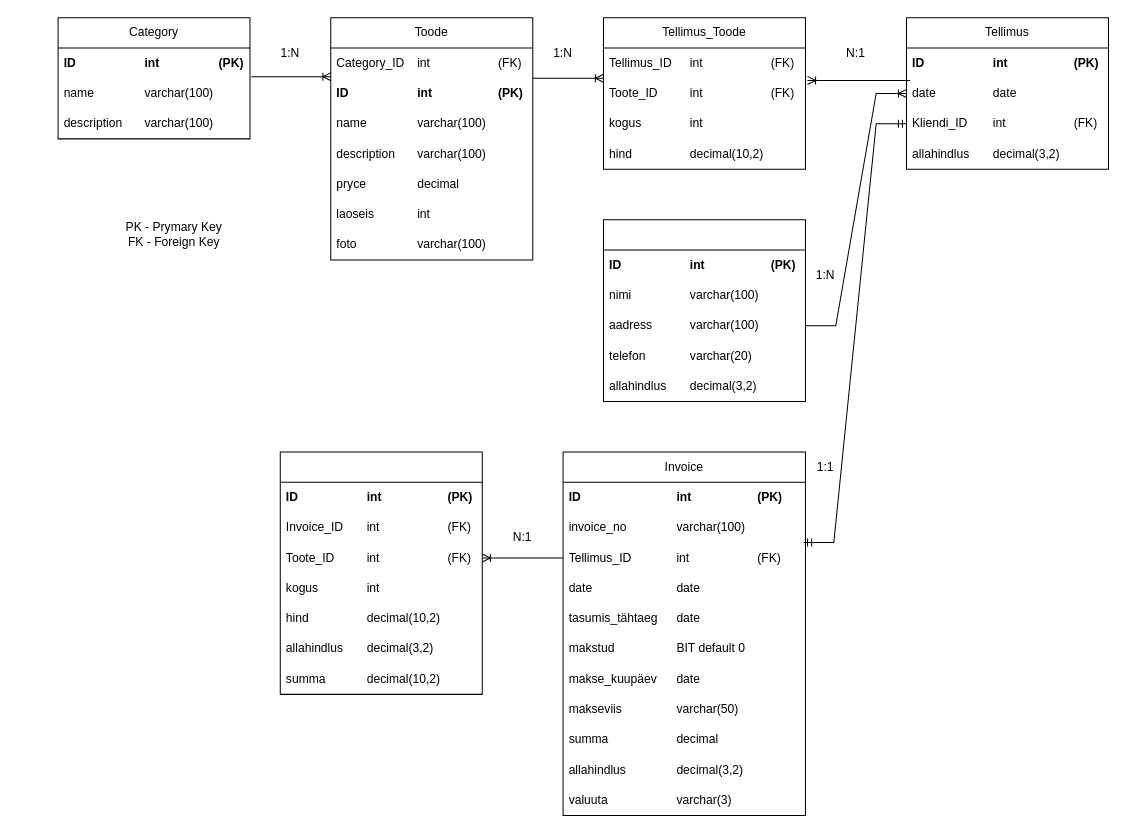
The diagram is 1126 pixels wide and 833 high, and some of its shapes have lost their labels. Each missing label, with the box of its shape:
Invoice_Line: (279, 451, 482, 694)
Klient: (602, 219, 805, 401)
